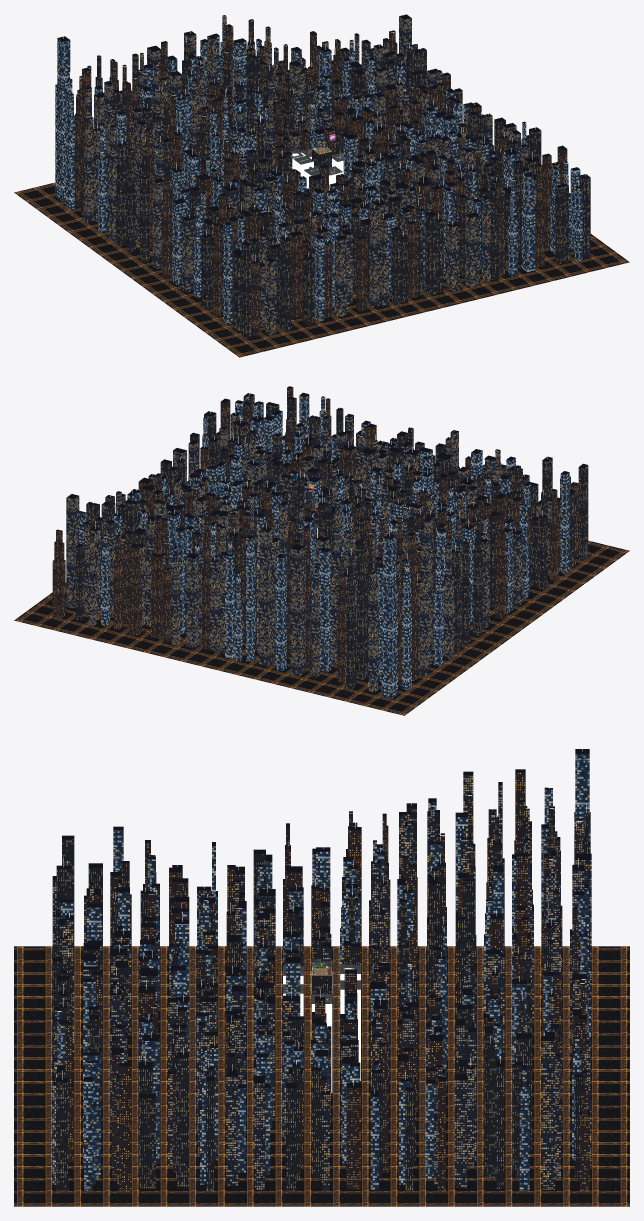
File: set.glb
The picture shows the model from 3 angles, top to bottom: view 1: azimuth 30°, elevation 25°; view 2: azimuth 150°, elevation 25°; view 3: azimuth 270°, elevation 25°; orthographic projection. The views are drawn at different scales.
Parts seen in each view (by area): view 1: RoomGlowCityWindows, RoomGlowStreets, RoomGlowLights, RoomFlat; view 2: RoomGlowCityWindows, RoomGlowStreets, RoomGlowLights; view 3: RoomGlowCityWindows, RoomGlowStreets, RoomGlowLights, RoomFlat.
Boxes of the visible parts, box(x1,y1,x2,y2) form: RoomGlowCityWindows: box(55, 14, 590, 338); RoomGlowStreets: box(14, 182, 629, 357); RoomGlowLights: box(63, 16, 585, 261); RoomFlat: box(289, 133, 343, 175); RoomGlowCityWindows: box(52, 386, 588, 698); RoomGlowStreets: box(14, 540, 629, 715); RoomGlowLights: box(59, 389, 574, 581); RoomGlowCityWindows: box(52, 749, 591, 1190); RoomGlowStreets: box(14, 946, 629, 1206); RoomGlowLights: box(56, 744, 586, 1093); RoomFlat: box(283, 961, 360, 1003).
Size of the model in its own units: 1200 by 481 by 1200.
8 materials, 6 textured.
